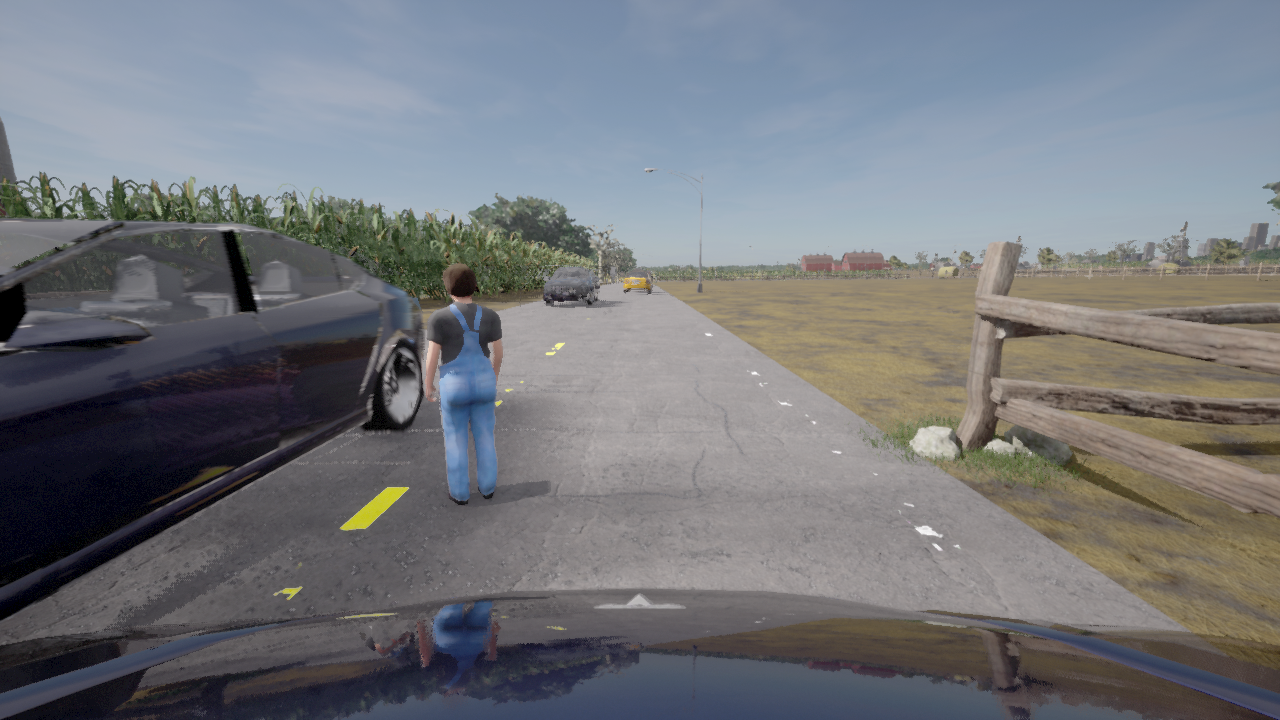cyclist: (0, 588, 1279, 719), (544, 266, 599, 304), (624, 269, 652, 292), (646, 288, 647, 289)
pedestrian: (426, 263, 502, 505)
